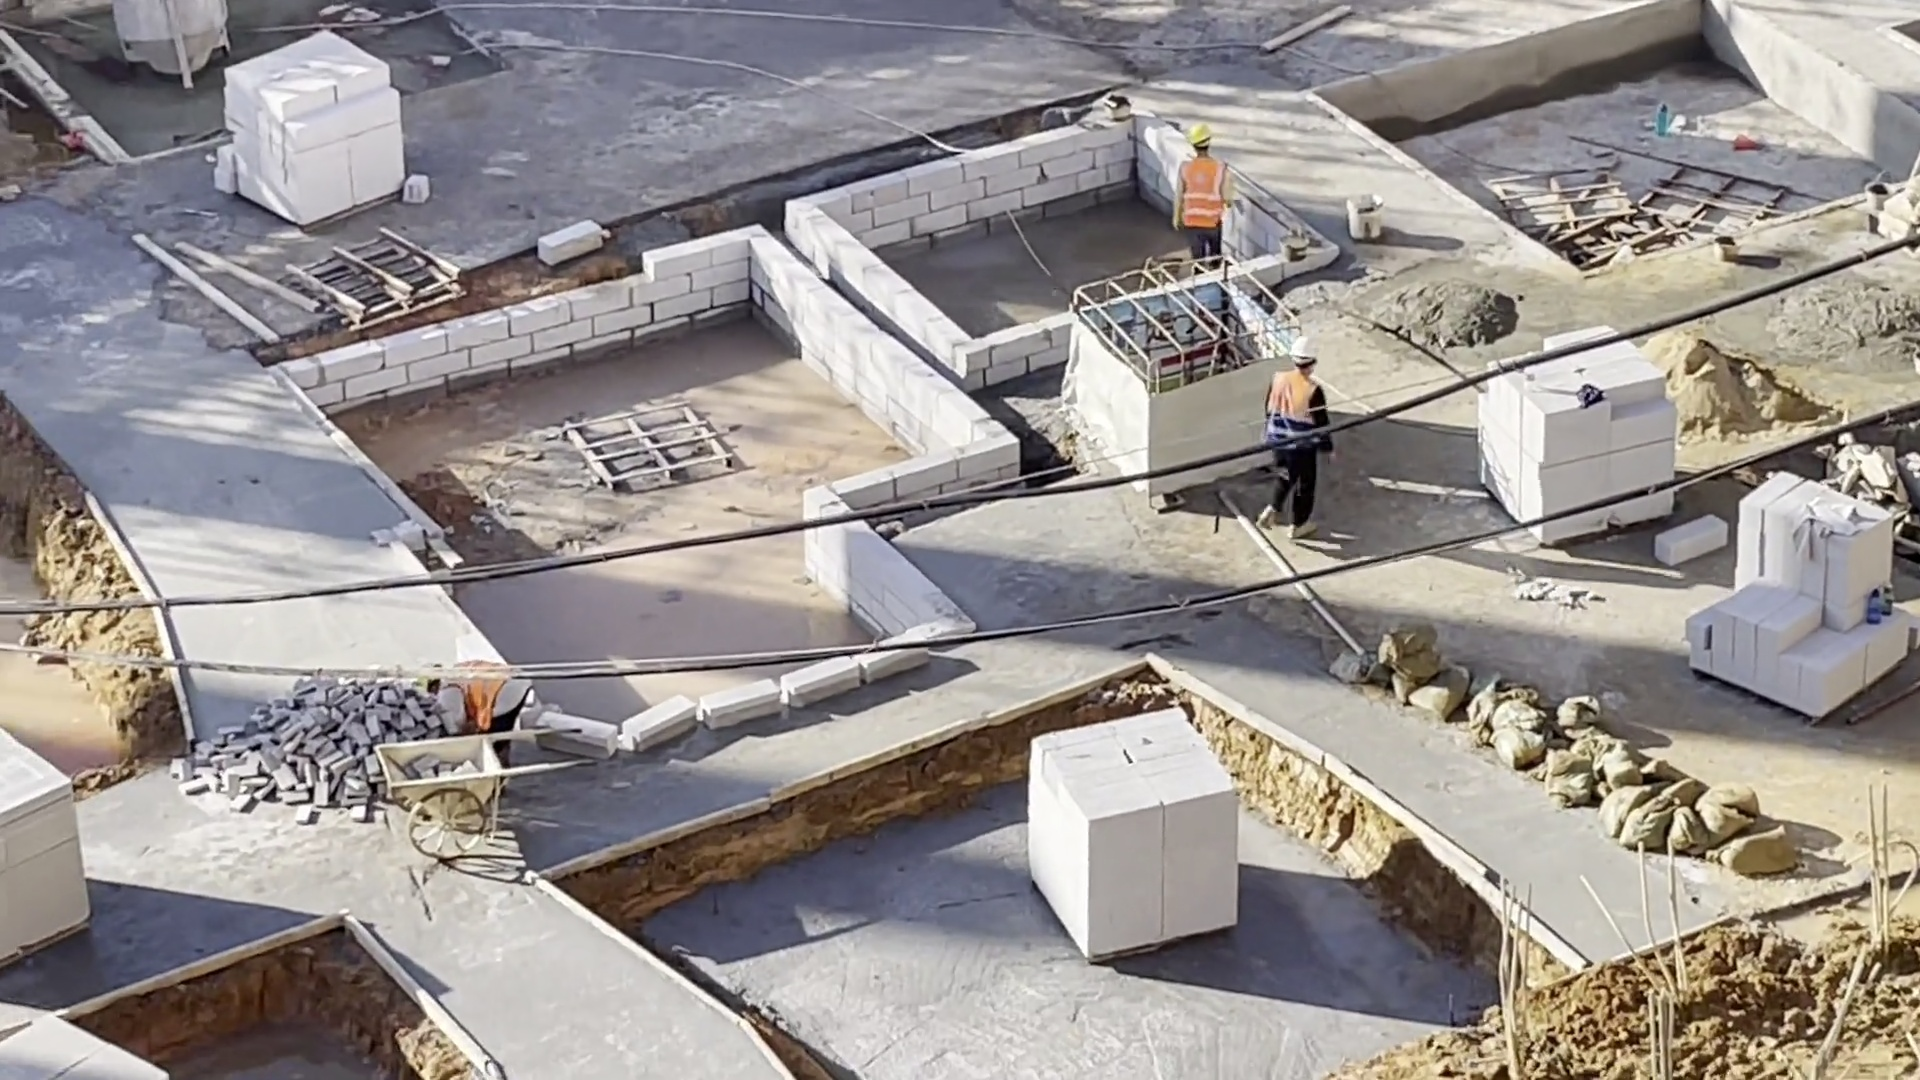helmet: (1291, 339, 1319, 371), (424, 659, 443, 697), (1189, 122, 1209, 146)
person: (426, 661, 533, 770), (1264, 353, 1326, 520), (1183, 123, 1236, 263)
vest: (444, 661, 539, 717), (1278, 369, 1324, 457), (1188, 159, 1219, 241)
